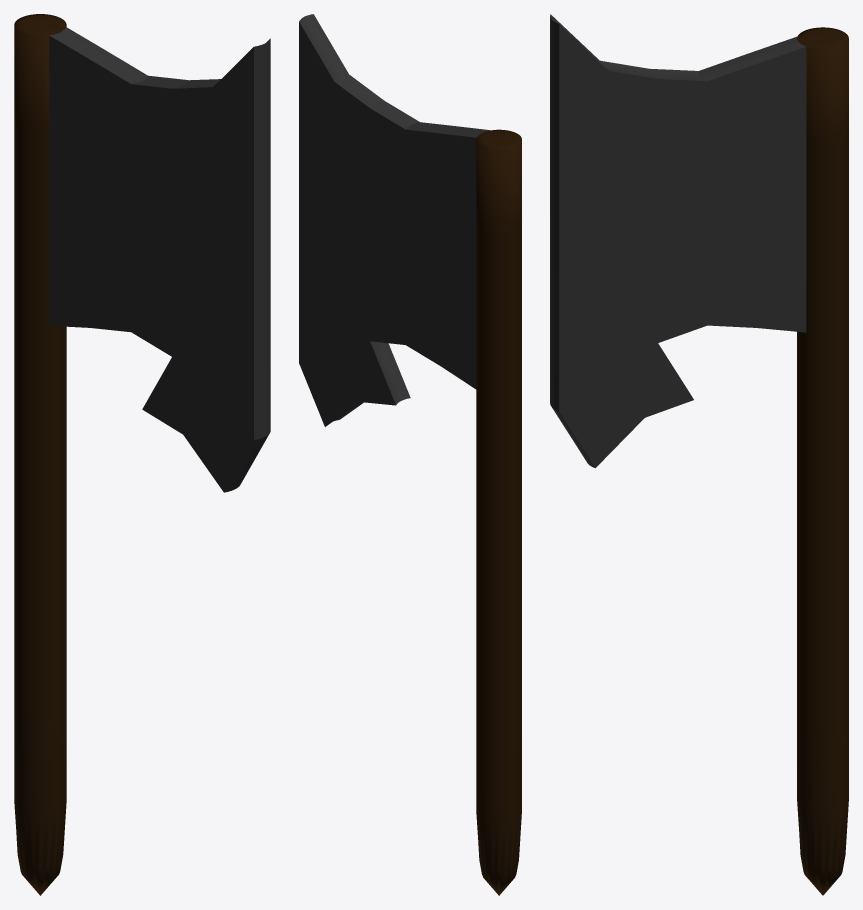
The model's file is hacha_Barbara.fbx.
3 renders of one model, left to right at view 1: azimuth 30°, elevation 25°; view 2: azimuth 210°, elevation 25°; view 3: azimuth 270°, elevation 25°, orthographic. The views are drawn at different scales.
Parts seen in each view (by area): view 1: Cylinder001; view 2: Cylinder001; view 3: Cylinder001.
Part boxes in pixels (<box>): Cylinder001: <box>14,14,270,895</box>; Cylinder001: <box>299,14,521,895</box>; Cylinder001: <box>550,14,848,895</box>.
Bounding box in the file's own units: 0.1032 × 0.7707 × 0.2273.
